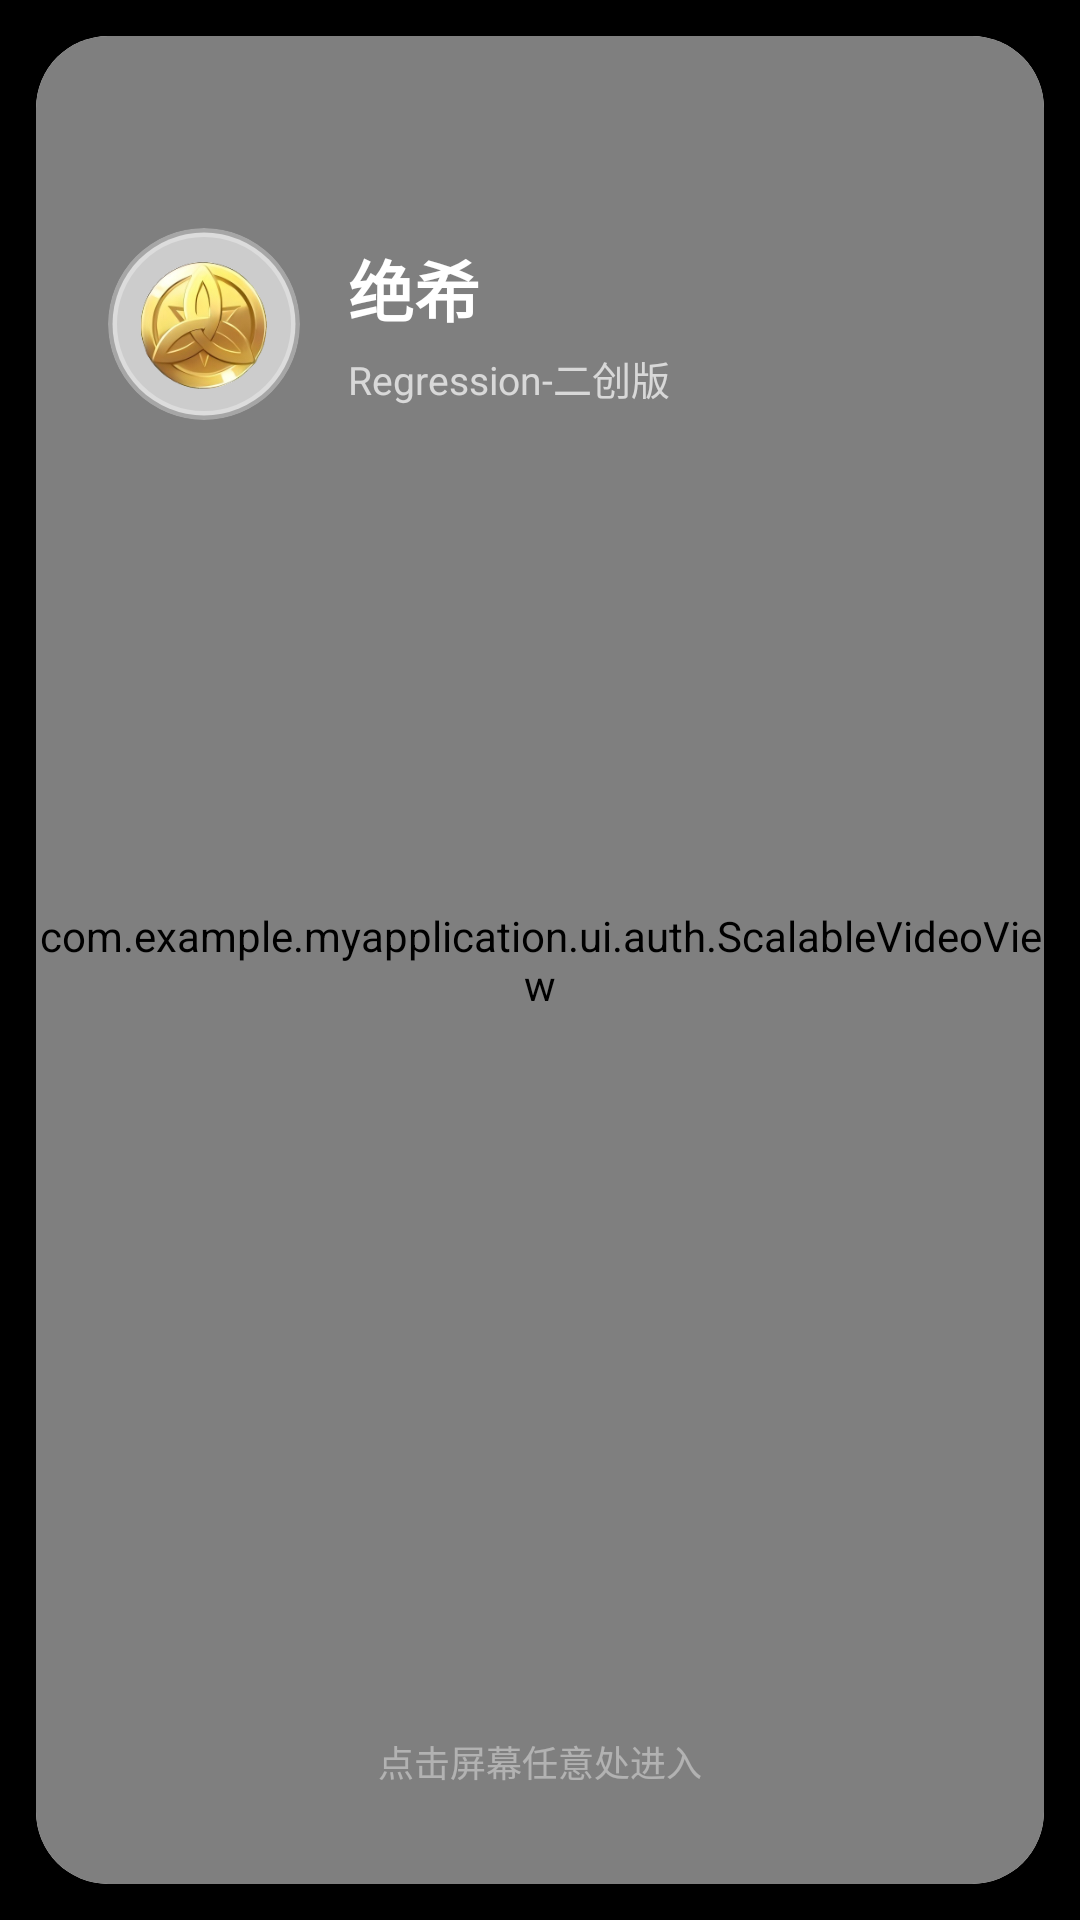

Where to tap for icons on this 1080px x 1920px app screen, as point (x, y):
mora: point (204, 324)
